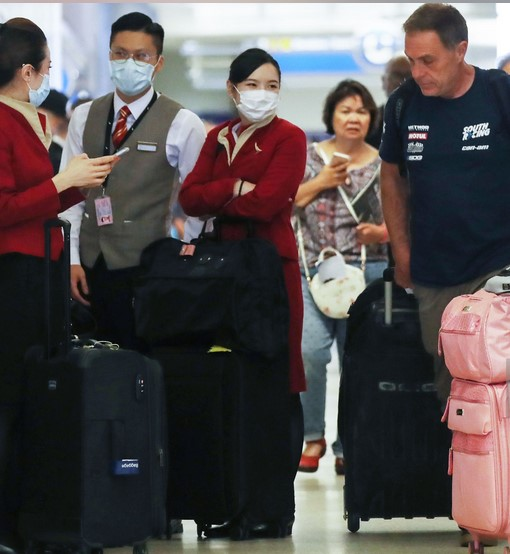face_no_mask: (401, 4, 471, 100), (323, 79, 375, 148)
face_with_mask: (106, 13, 164, 102), (1, 17, 55, 110), (223, 46, 282, 128)
